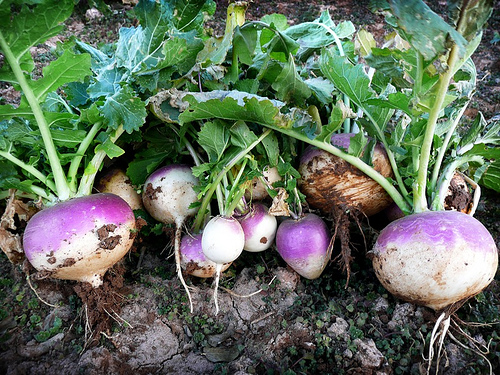turnip: (371, 209, 498, 309)
